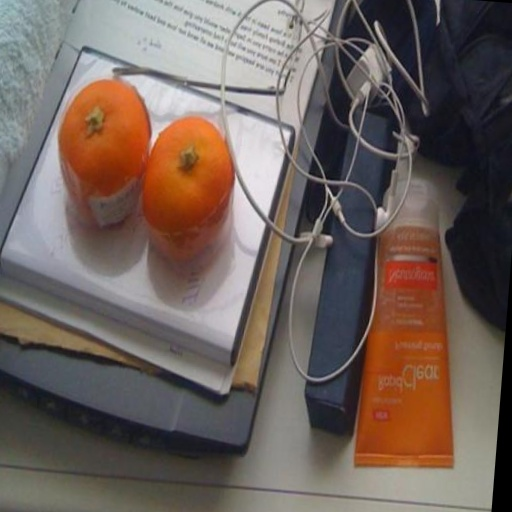fruit: (57, 79, 150, 225), (142, 116, 233, 261)
